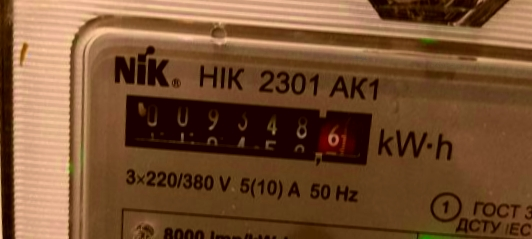0: (142, 101, 160, 129), (173, 101, 189, 128)
3: (234, 106, 250, 132)
4: (261, 106, 281, 138)
6: (323, 119, 342, 149)
8: (293, 112, 310, 141)
9: (204, 106, 220, 134)
screen: (103, 79, 386, 177)
